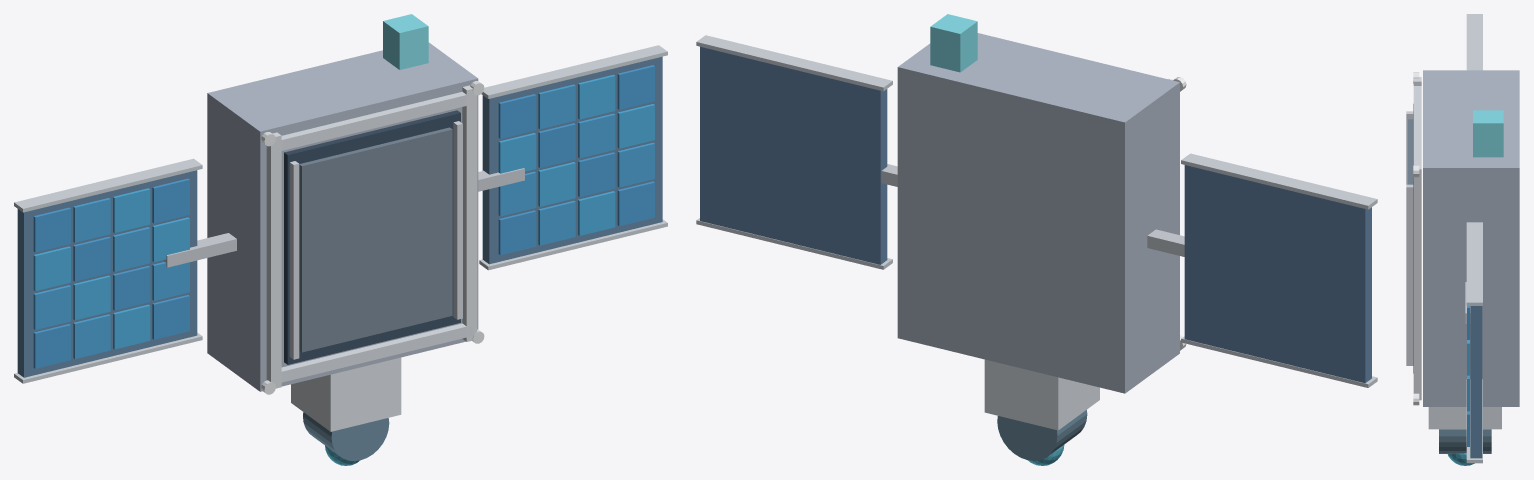
Rendered from sat_001_bus.glb.
3 views of the same model, side by side, from view 1: azimuth 30°, elevation 25°; view 2: azimuth 150°, elevation 25°; view 3: azimuth 270°, elevation 25° (orthographic). The views are drawn at different scales.
Visible parts, largest first — view 1: Bus structural core, Service bay tray, Solar wing surround -1, Solar wing surround 1, Service bay depression, Optics housing, Structural side rail -0.61, Structural side rail 0.61, Structural upper-lower rail -0.69, Structural upper-lower rail 0.69, Wing frame -1 y0.51, Wing frame 1 y0.51 (+40 smaller); view 2: Bus structural core, Solar wing surround -1, Solar wing surround 1, Optics housing, Wing frame 1 y0.51, Wing frame -1 y0.51, Optical barrel, Star tracker, Wing frame 1 y-0.51, Wing frame -1 y-0.51, Wing boom -1; view 3: Bus structural core, Structural side rail 0.61, Solar wing surround 1, Star tracker, Bay guide rail 0.51, Wing frame 1 y0.51, Optics housing, Wing frame -1 y0.51, Optical barrel, Structural upper-lower rail 0.69, Service bay tray, Wing frame 1 y-0.51 (+3 smaller).
Boxes of the visible parts, x1,y1,x2,y2 form: Bus structural core: [207, 42, 478, 391]; Service bay tray: [299, 127, 452, 352]; Solar wing surround -1: [17, 170, 197, 377]; Solar wing surround 1: [482, 56, 662, 264]; Service bay depression: [284, 110, 460, 364]; Optics housing: [291, 357, 401, 431]; Structural side rail -0.61: [266, 132, 281, 388]; Structural side rail 0.61: [462, 85, 477, 341]; Structural upper-lower rail -0.69: [281, 323, 473, 382]; Structural upper-lower rail 0.69: [281, 91, 473, 150]; Wing frame -1 y0.51: [14, 158, 202, 212]; Wing frame 1 y0.51: [481, 45, 667, 98]; Bus structural core: [897, 33, 1179, 393]; Solar wing surround -1: [1184, 165, 1371, 383]; Solar wing surround 1: [700, 46, 887, 264]; Optics housing: [984, 359, 1099, 430]; Wing frame 1 y0.51: [696, 35, 892, 91]; Wing frame -1 y0.51: [1181, 153, 1377, 209]; Optical barrel: [997, 410, 1087, 460]; Star tracker: [930, 14, 977, 72]; Wing frame 1 y-0.51: [696, 218, 892, 269]; Wing frame -1 y-0.51: [1181, 336, 1377, 387]; Wing boom -1: [1147, 229, 1184, 256]; Bus structural core: [1423, 70, 1519, 406]; Structural side rail 0.61: [1413, 164, 1421, 400]; Solar wing surround 1: [1470, 306, 1482, 458]; Star tracker: [1473, 110, 1503, 157]; Bay guide rail 0.51: [1406, 184, 1413, 365]; Wing frame 1 y0.51: [1466, 222, 1482, 305]; Optics housing: [1428, 407, 1501, 429]; Wing frame -1 y0.51: [1466, 14, 1482, 70]; Optical barrel: [1439, 429, 1491, 453]; Structural upper-lower rail 0.69: [1413, 86, 1421, 164]; Service bay tray: [1408, 119, 1413, 184]; Wing frame 1 y-0.51: [1466, 379, 1482, 463].
Bounding box in the file's own units: 4.02 × 2.47 × 0.6675.
